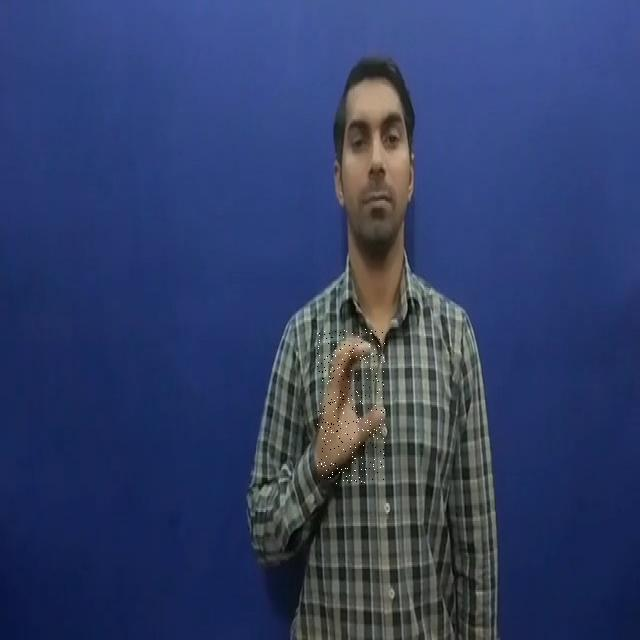pepper: (317, 328, 385, 484)
